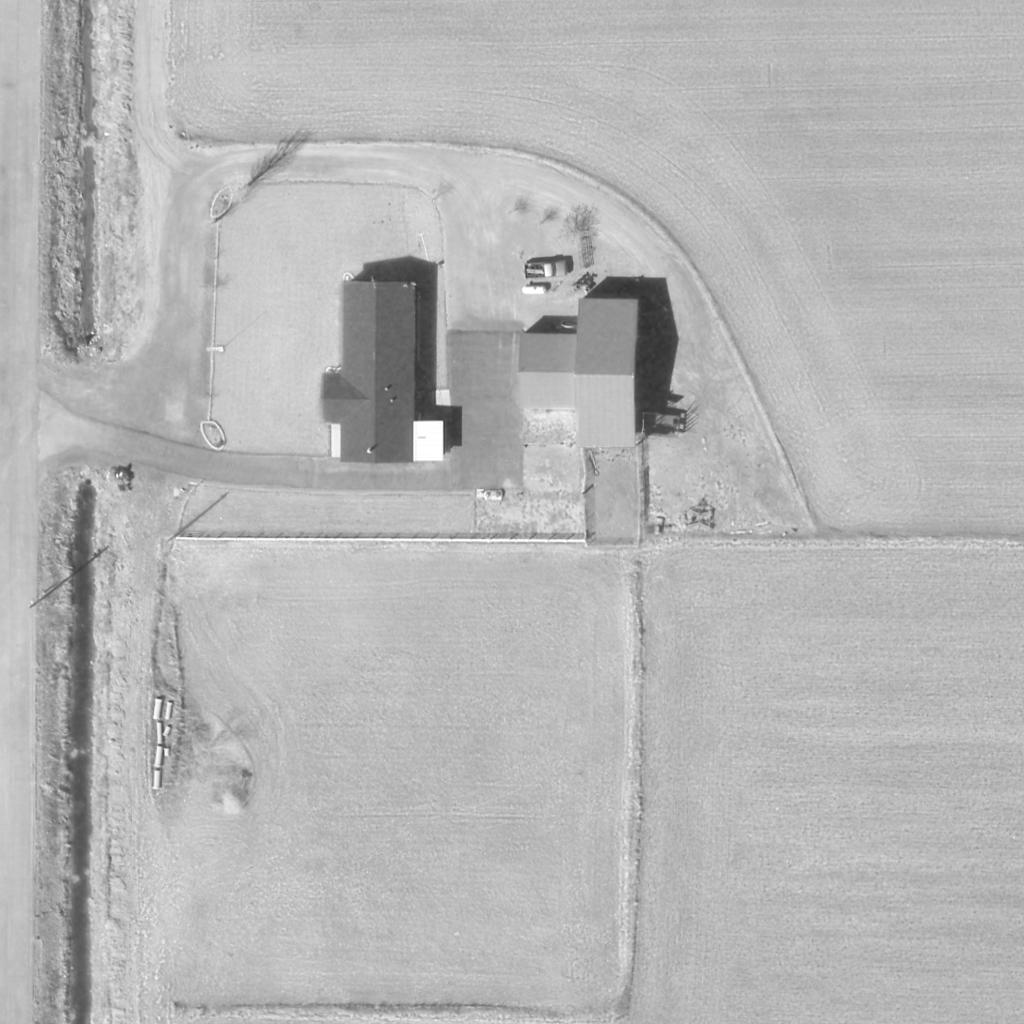vehicle: (521, 260, 569, 280)
